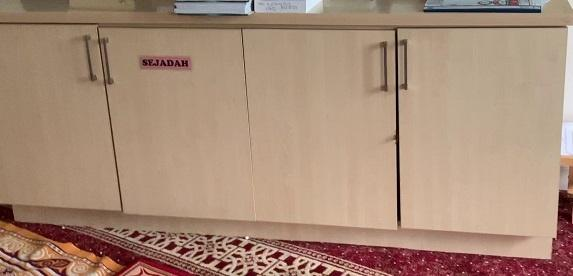cabinet_door: (405, 32, 565, 228), (109, 27, 252, 215), (258, 33, 401, 221), (0, 27, 104, 208)
handle: (374, 39, 393, 92), (81, 34, 99, 86), (101, 35, 119, 86), (395, 39, 412, 92)
